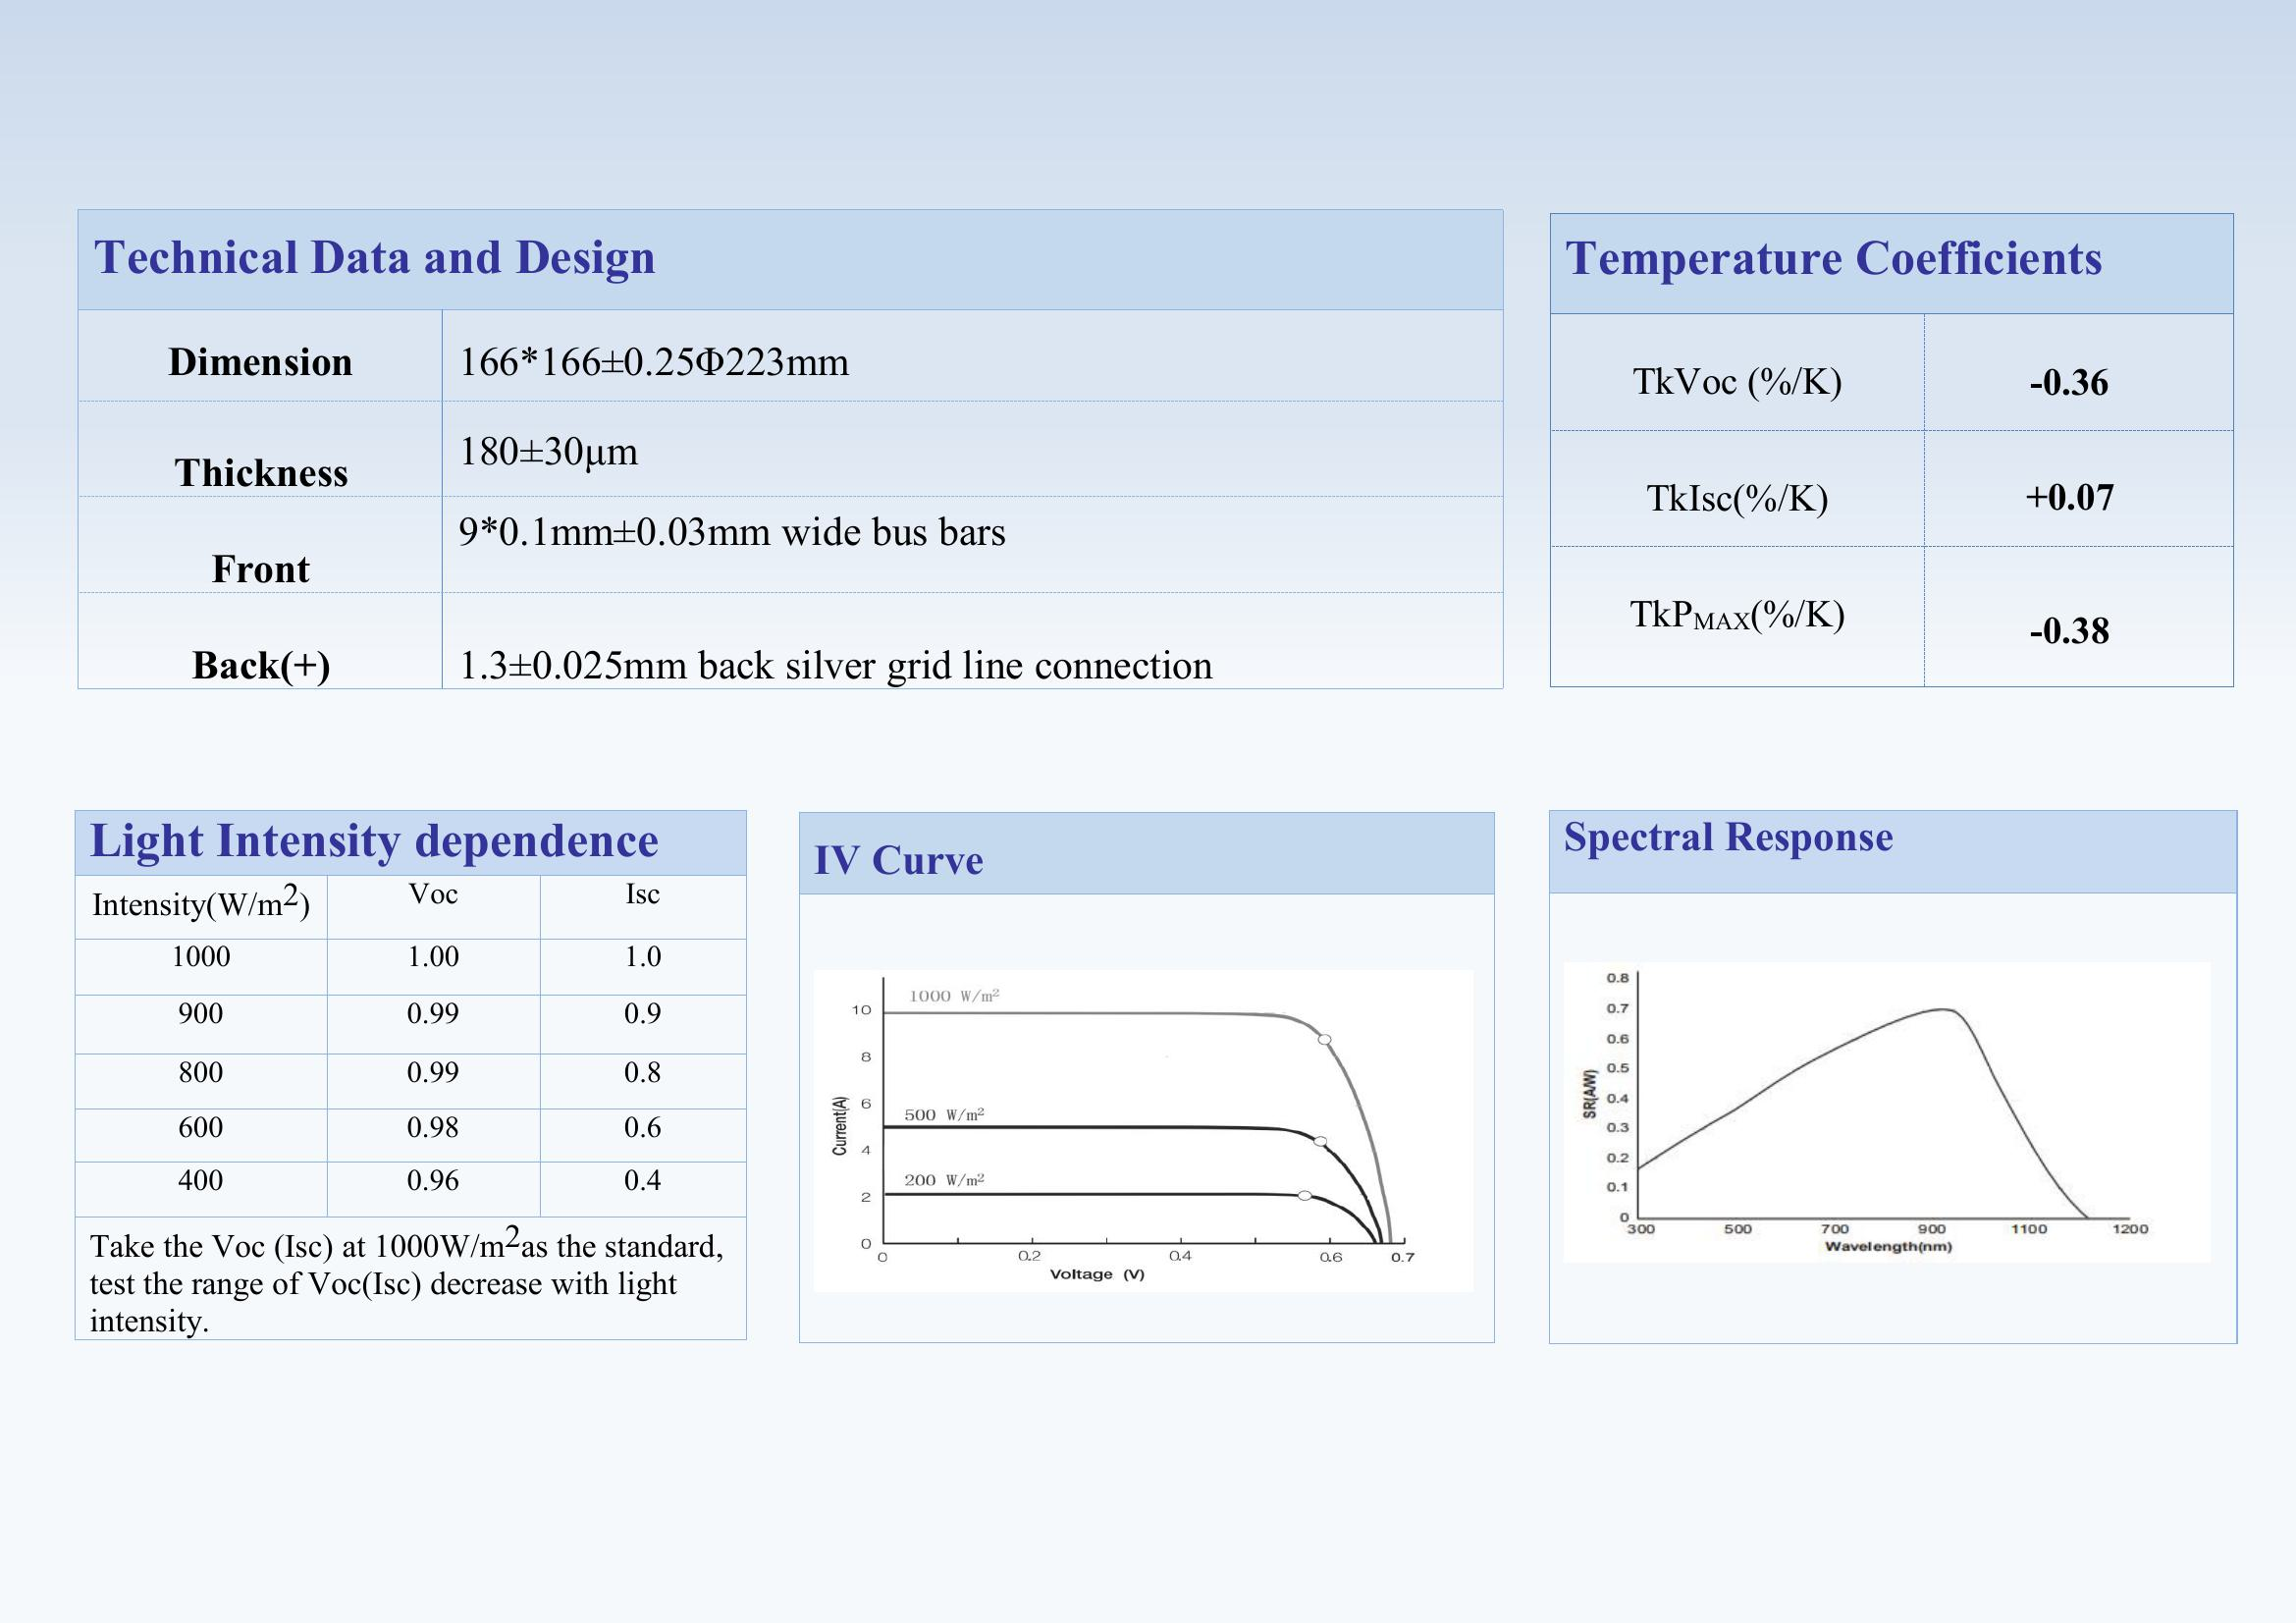table: (63, 302, 1520, 703), (1539, 304, 2247, 699), (58, 868, 758, 1228)
